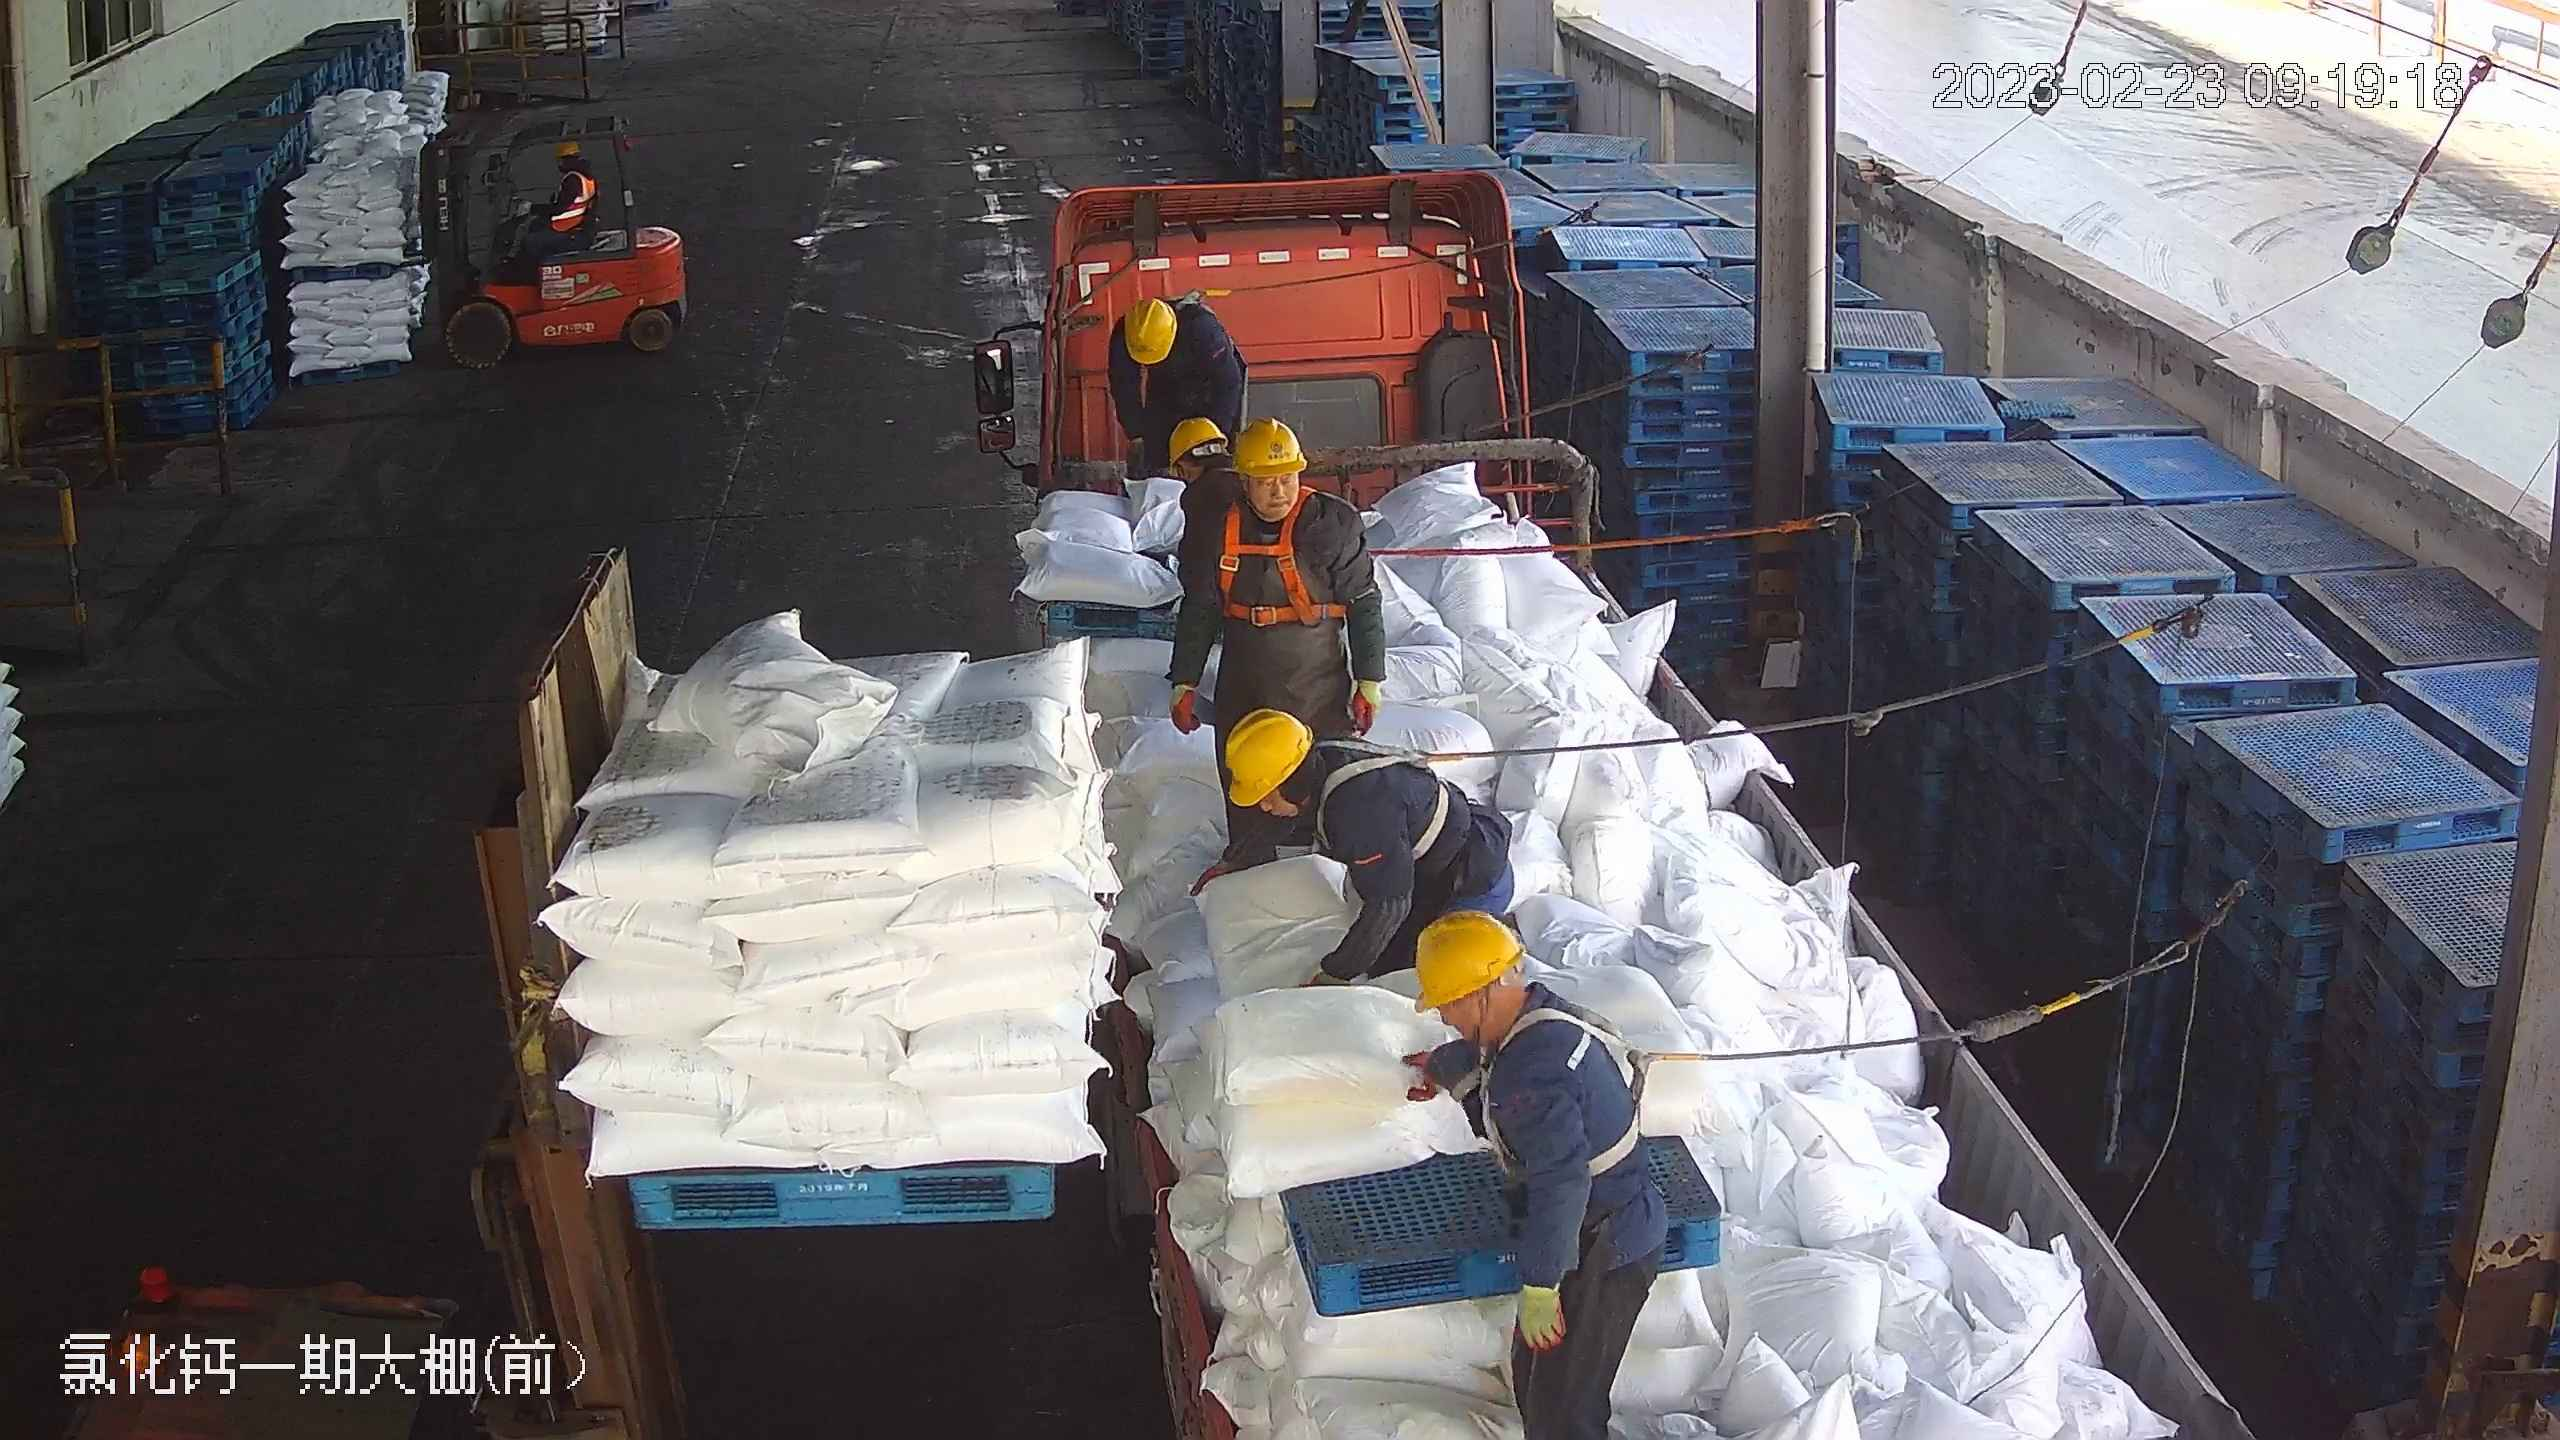belt: (1438, 993, 1699, 1178), (1304, 733, 1470, 864), (1219, 490, 1347, 627), (1168, 284, 1231, 337)
head: (1417, 910, 1614, 1130), (1201, 422, 1368, 579), (1230, 710, 1406, 858), (1111, 292, 1225, 372), (547, 138, 594, 192)
helmet: (1413, 909, 1526, 1010), (1225, 711, 1309, 802), (1232, 418, 1307, 476), (1122, 297, 1176, 364), (1167, 416, 1228, 469), (555, 137, 582, 159)
people: (1402, 917, 1666, 1440), (1179, 419, 1388, 895), (1213, 709, 1515, 984), (1105, 288, 1256, 485), (515, 137, 594, 251)
truck: (978, 157, 2245, 1435)
